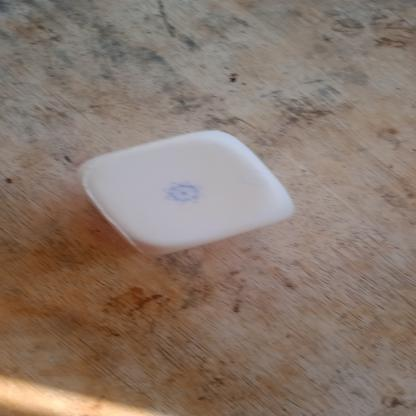Cube: (77, 129, 305, 257)
